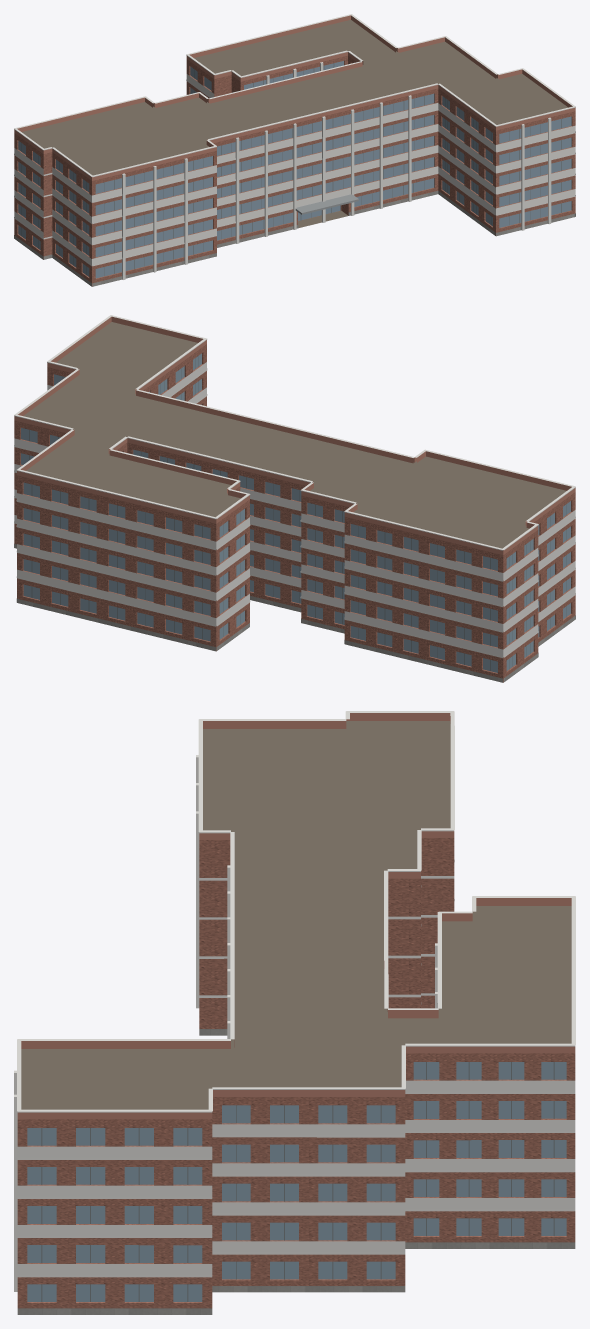
3 renders of one model, top to bottom at view 1: azimuth 30°, elevation 25°; view 2: azimuth 150°, elevation 25°; view 3: azimuth 270°, elevation 25°, orthographic. The views are drawn at different scales.
Parts seen in each view (by area): view 1: civilEng__roof, civilEng__glass, civilEng__wall, civilEng__wall2, civilEng__trim, civilEng__parapet, civilEng__frame, civilEng__base, civilEng__canopy; view 2: civilEng__roof, civilEng__wall, civilEng__glass, civilEng__wall2, civilEng__trim, civilEng__parapet, civilEng__base, civilEng__frame; view 3: civilEng__roof, civilEng__wall, civilEng__glass, civilEng__wall2, civilEng__trim, civilEng__parapet, civilEng__base, civilEng__frame.
Part boxes in pixels (x1,y1,x2,y2): civilEng__roof: [22, 20, 567, 228]; civilEng__glass: [18, 61, 571, 278]; civilEng__wall: [14, 55, 575, 286]; civilEng__wall2: [14, 74, 575, 265]; civilEng__trim: [14, 14, 575, 279]; civilEng__parapet: [14, 15, 575, 180]; civilEng__frame: [21, 63, 561, 275]; civilEng__base: [14, 191, 575, 286]; civilEng__canopy: [295, 194, 358, 214]; civilEng__roof: [23, 322, 566, 548]; civilEng__wall: [14, 344, 575, 682]; civilEng__glass: [21, 353, 570, 672]; civilEng__wall2: [14, 362, 575, 656]; civilEng__trim: [14, 315, 575, 657]; civilEng__parapet: [14, 316, 575, 554]; civilEng__base: [14, 544, 575, 682]; civilEng__frame: [29, 356, 566, 671]; civilEng__roof: [21, 721, 571, 1109]; civilEng__wall: [17, 838, 575, 1308]; civilEng__glass: [27, 1062, 566, 1301]; civilEng__wall2: [17, 1080, 575, 1274]; civilEng__trim: [14, 711, 575, 1291]; civilEng__parapet: [17, 713, 575, 1119]; civilEng__base: [17, 1029, 575, 1314]; civilEng__frame: [41, 1062, 554, 1301].
Size of the model in its own units: 79.16 by 18.77 by 46.94.
10 materials, 2 textured.
